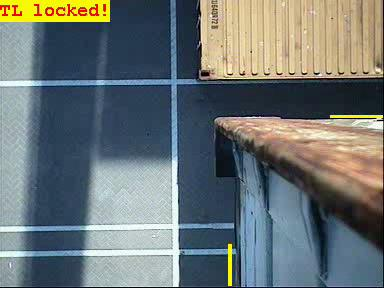groundmarker_2: (38, 117, 140, 190)
